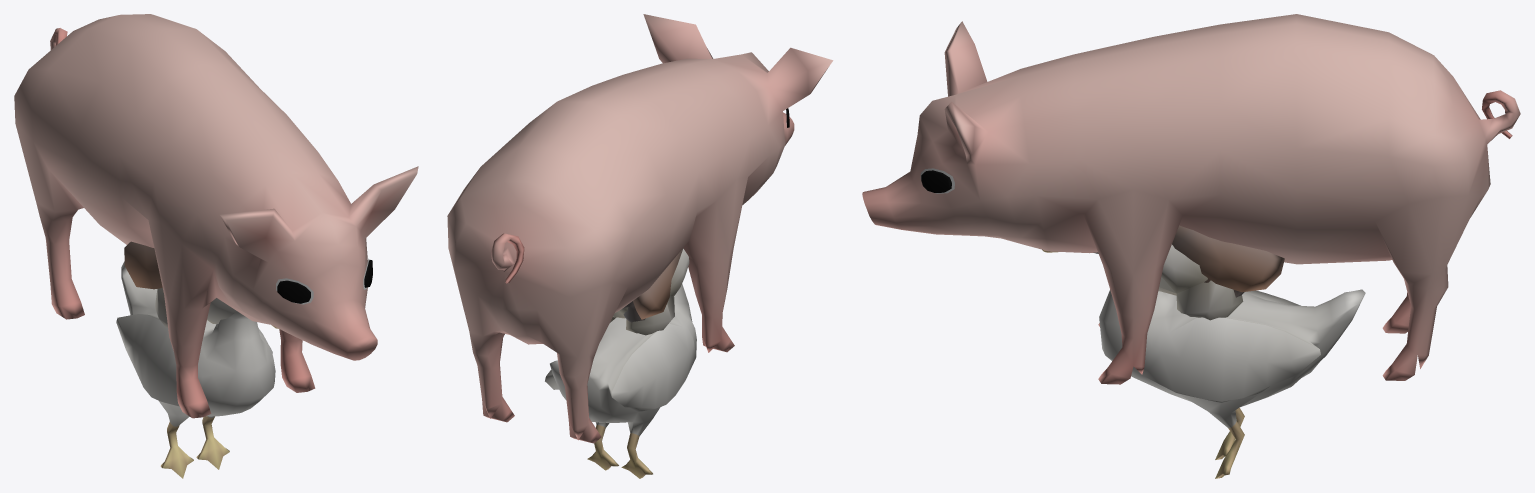
File: farm-animals.glb
3 views of the same model, side by side, from view 1: azimuth 30°, elevation 25°; view 2: azimuth 150°, elevation 25°; view 3: azimuth 270°, elevation 25° (orthographic). The views are drawn at different scales.
Parts seen in each view (by area): view 1: base (×2), alt612, alt613; view 2: base (×2), alt612, alt613; view 3: base (×2), alt612, alt613.
Part boxes in pixels (x1,y1,x2,y2): base (×2): [14, 14, 418, 478]; alt612: [124, 241, 162, 289]; alt613: [155, 288, 237, 327]; base (×2): [447, 14, 833, 478]; alt612: [615, 248, 683, 322]; alt613: [610, 249, 689, 335]; base (×2): [862, 14, 1520, 478]; alt612: [1172, 225, 1284, 297]; alt613: [1158, 244, 1243, 320].
Bounding box in the file's own units: 0.5537 × 1.11 × 1.48.
